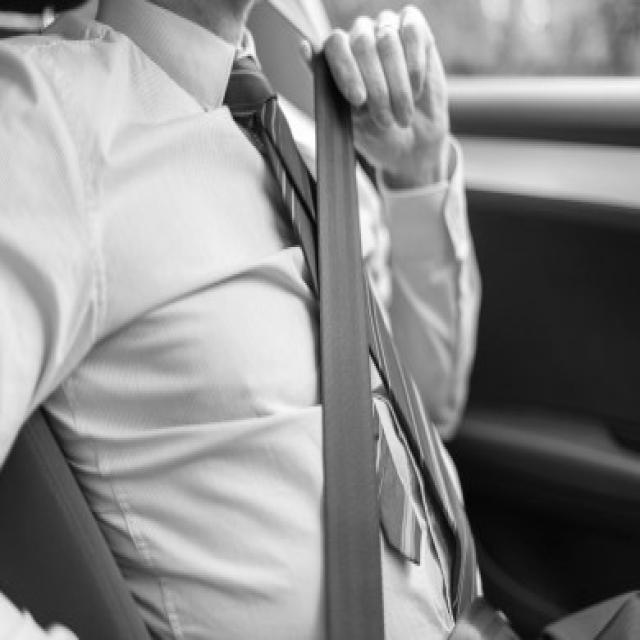Seatbelt: (254, 18, 396, 640)
